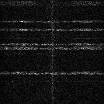wifi: (1, 72, 104, 75), (1, 20, 104, 23), (1, 28, 104, 31), (1, 43, 104, 46), (1, 47, 104, 50)
